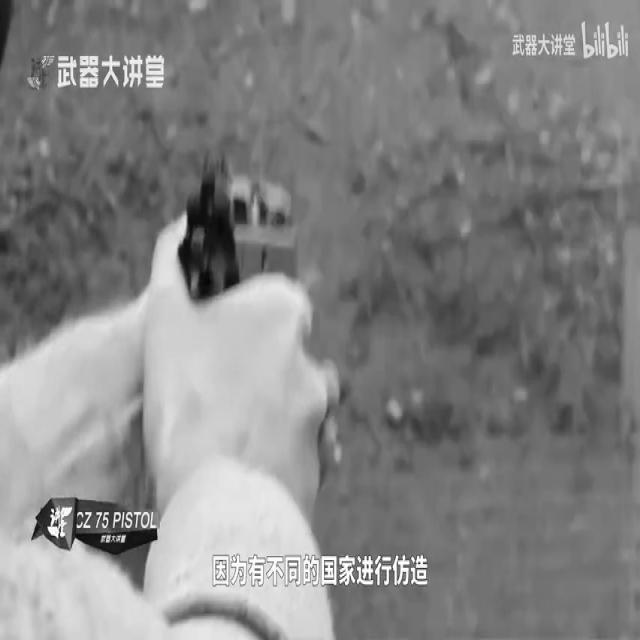Hand-Gun: (142, 128, 338, 501)
